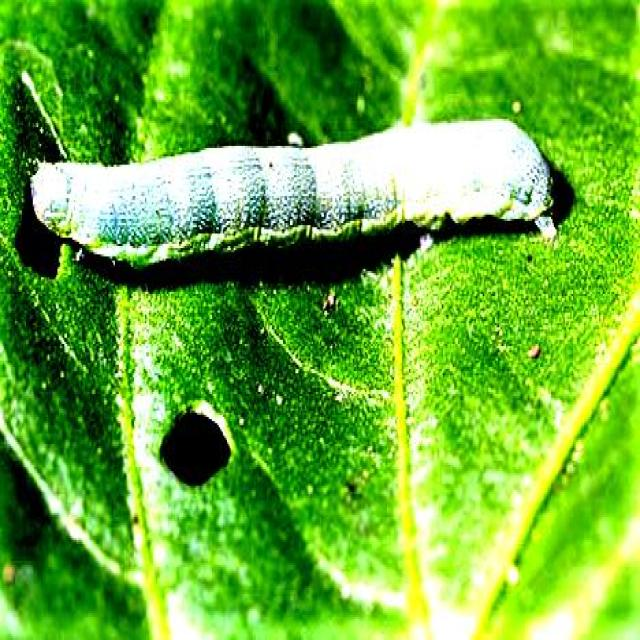armyworm: (29, 113, 558, 271)
